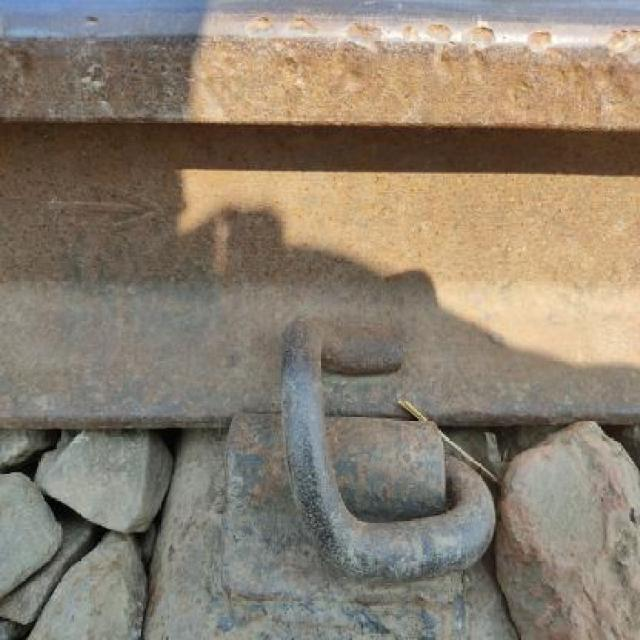defective: (4, 0, 640, 522)
